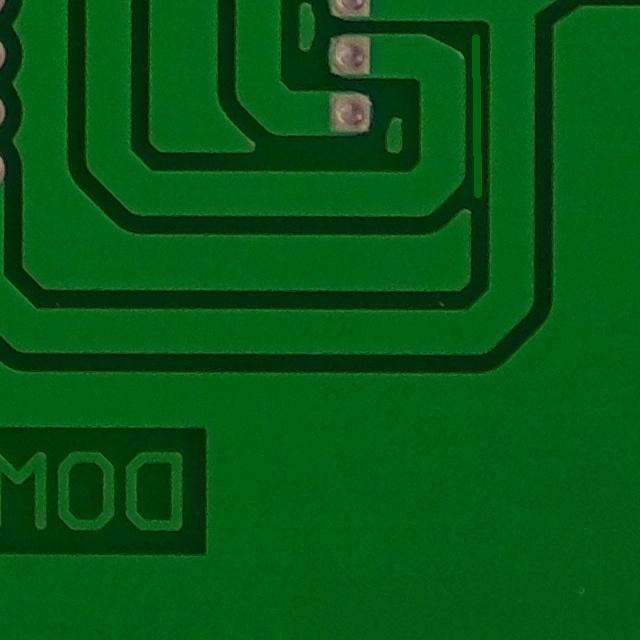spurious_copper: (453, 17, 504, 206)
